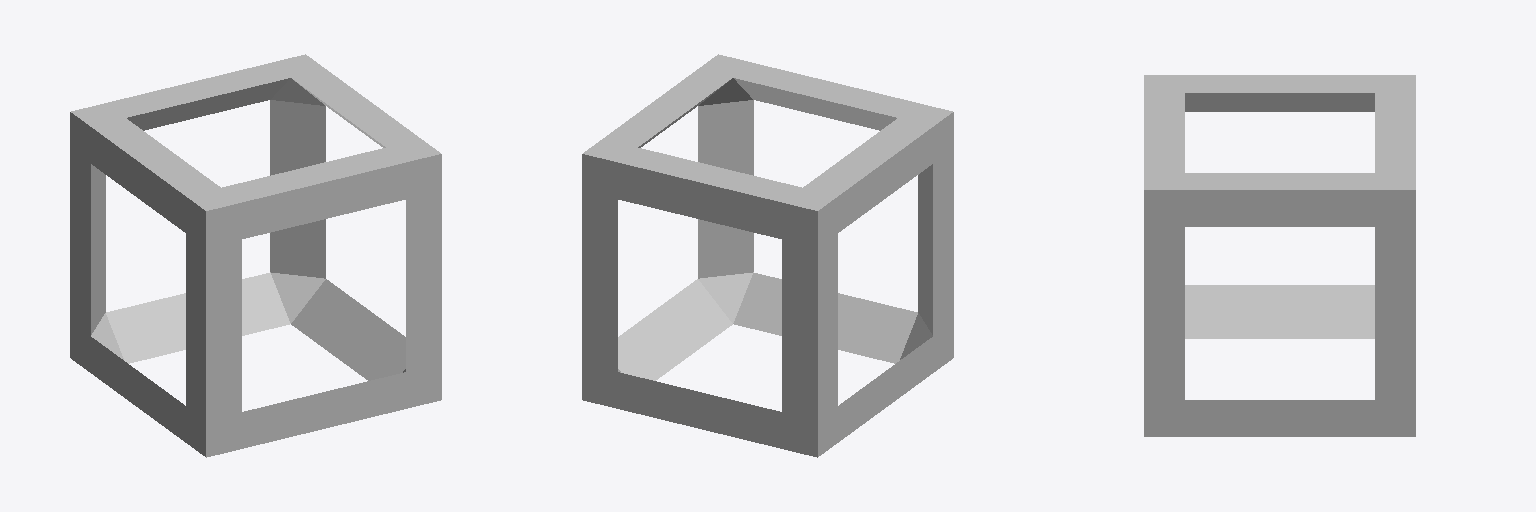
File: Frame.obj
3 renders of one model, left to right at view 1: azimuth 30°, elevation 25°; view 2: azimuth 150°, elevation 25°; view 3: azimuth 270°, elevation 25°, orthographic.
Parts seen in each view (by area): view 1: Cube_Cube.001; view 2: Cube_Cube.001; view 3: Cube_Cube.001.
Part boxes in pixels (x1,y1,x2,y2): Cube_Cube.001: (70, 54, 441, 457); Cube_Cube.001: (582, 54, 953, 457); Cube_Cube.001: (1144, 75, 1415, 436).
Size of the model in its own units: 2 by 2 by 2.